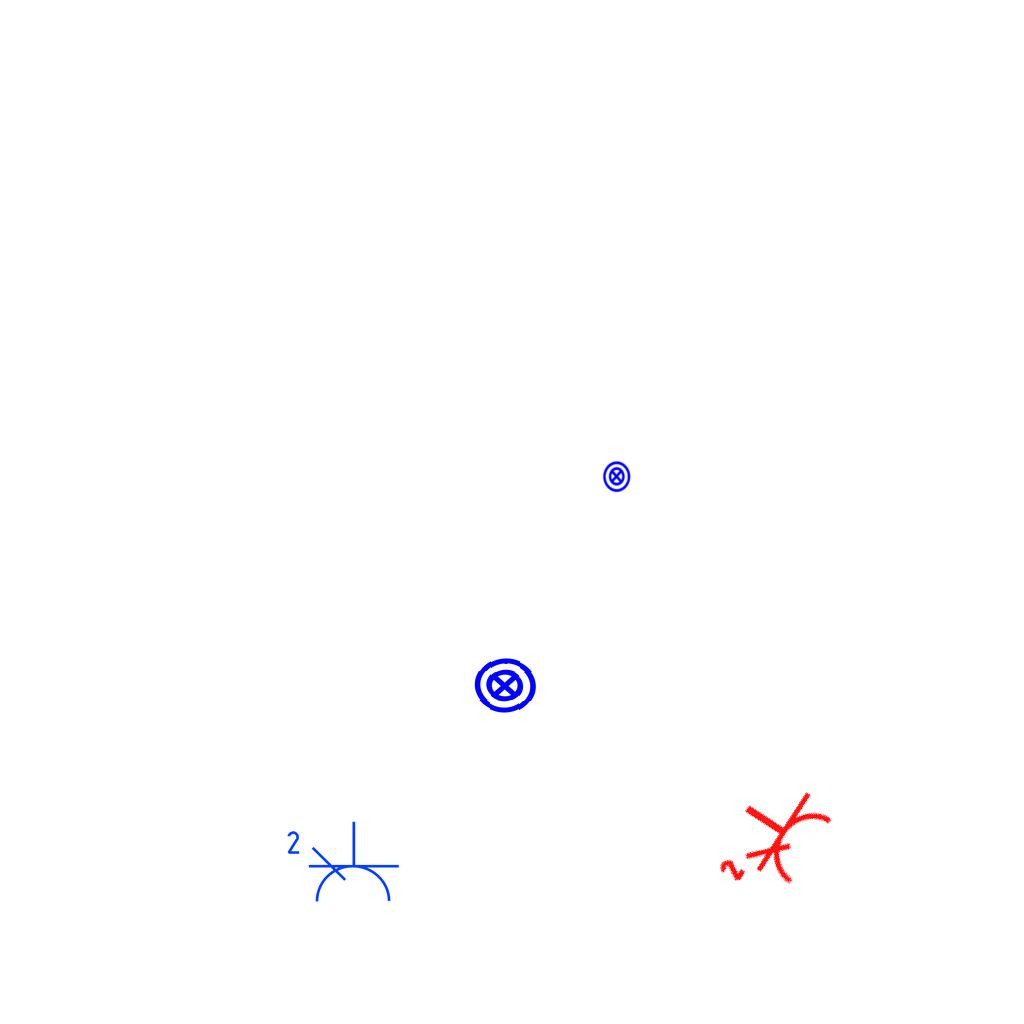Schukosteckdose_mehrfach: (703, 762, 844, 912), (280, 820, 401, 908)
Taster_beleuchtet: (470, 651, 540, 721), (600, 460, 633, 493)
